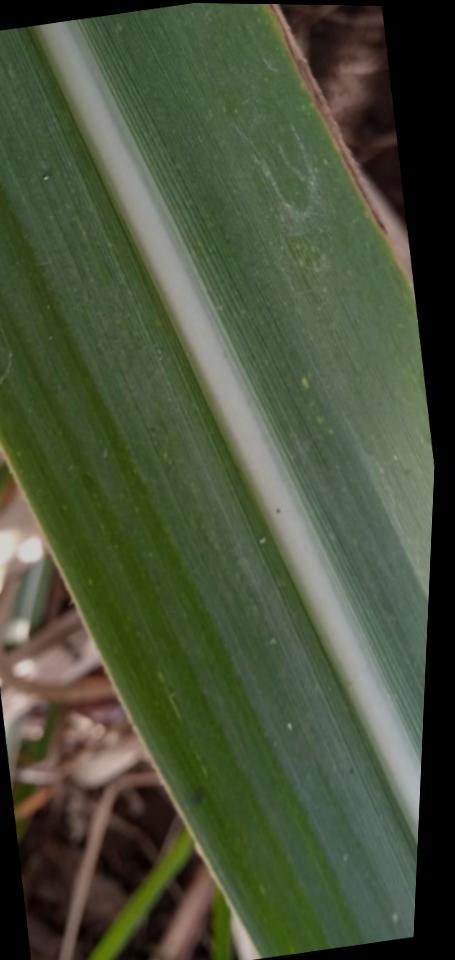Healthy: (0, 3, 434, 959)
